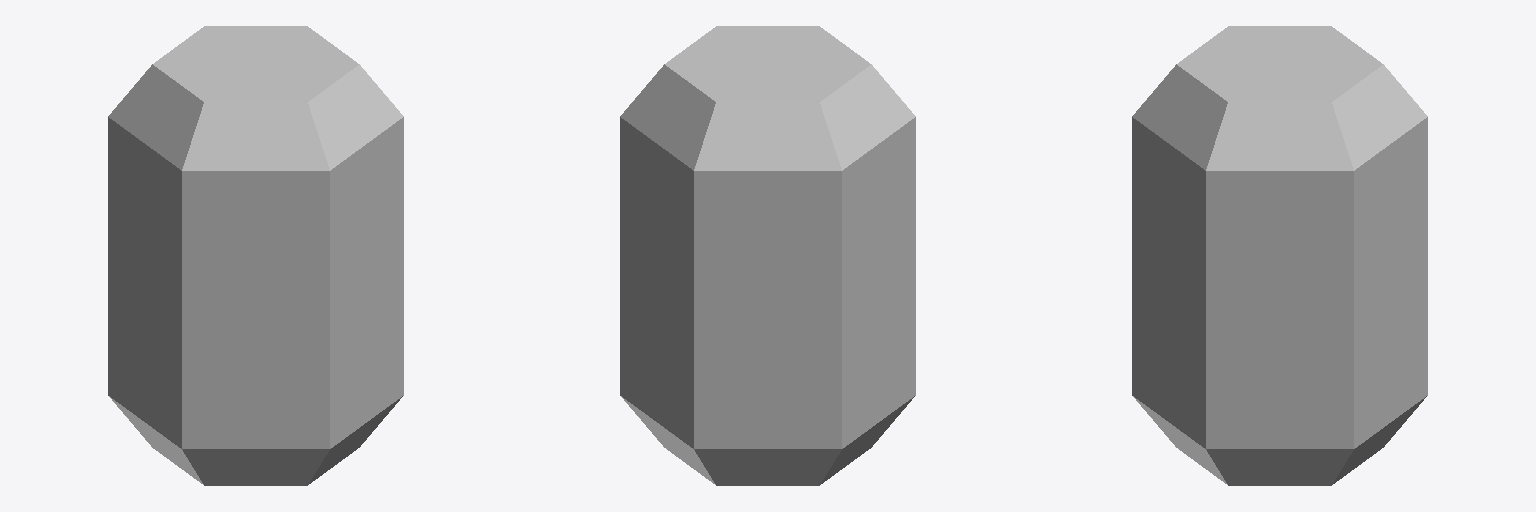
File: Can_Type3.obj
3 views of the same model, side by side, from view 1: azimuth 30°, elevation 25°; view 2: azimuth 150°, elevation 25°; view 3: azimuth 270°, elevation 25° (orthographic).
Visible parts, largest first — view 1: Can_Type3_Cylinder.038; view 2: Can_Type3_Cylinder.038; view 3: Can_Type3_Cylinder.038.
Part boxes in pixels (x1,y1,x2,y2): Can_Type3_Cylinder.038: (108,26,403,485); Can_Type3_Cylinder.038: (620,26,915,485); Can_Type3_Cylinder.038: (1132,26,1427,485).
Size of the model in its own units: 0.1935 by 0.3193 by 0.2234.